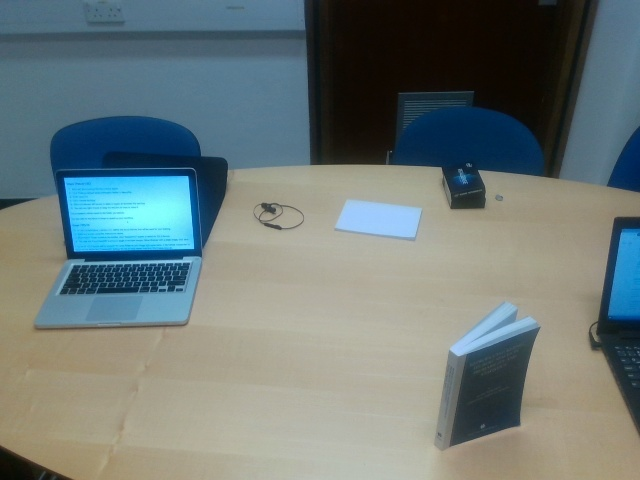book: (430, 300, 541, 454)
